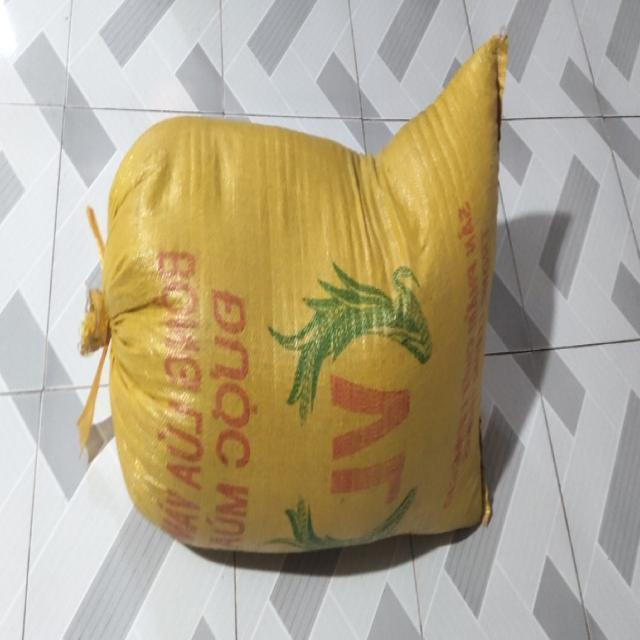gunny_bag: (80, 33, 508, 552)
